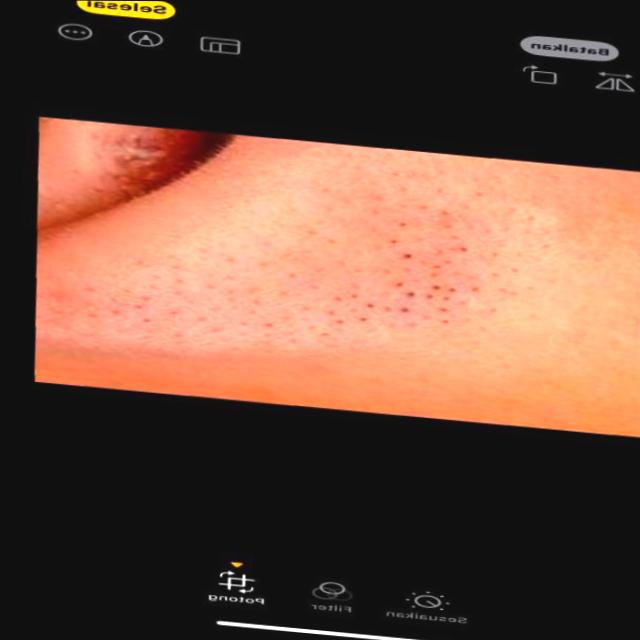blackhead: (295, 193, 545, 347)
